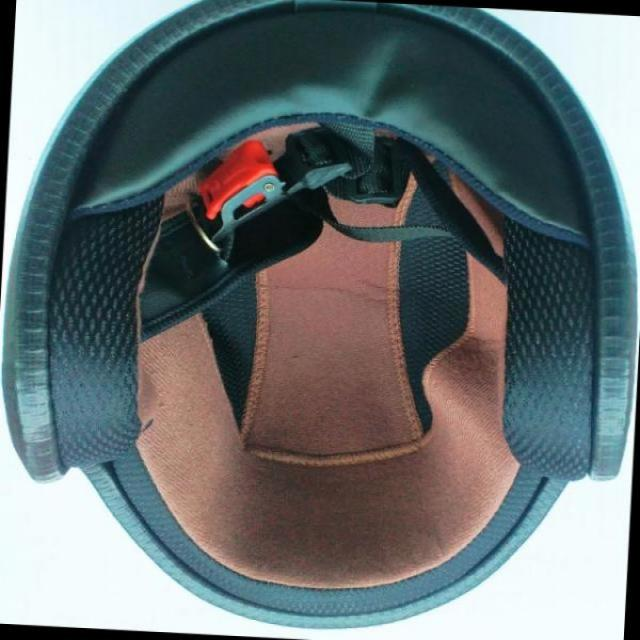Helmet: (14, 0, 637, 622)
